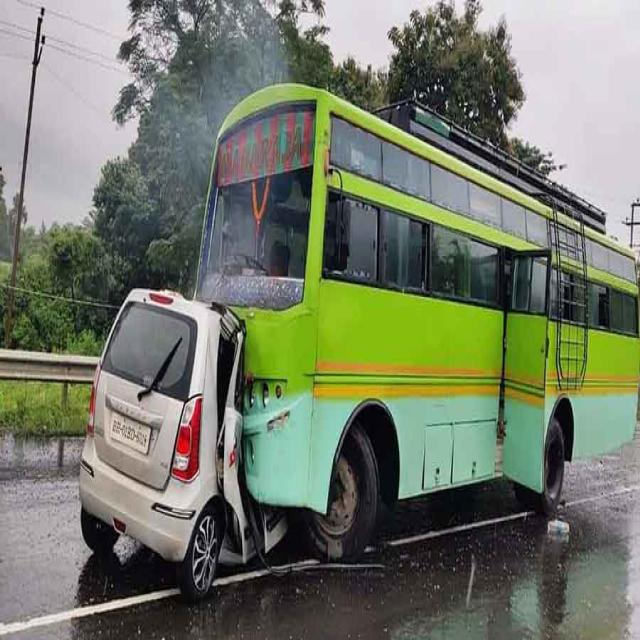accident: (79, 290, 255, 601)
bus: (196, 83, 640, 559)
